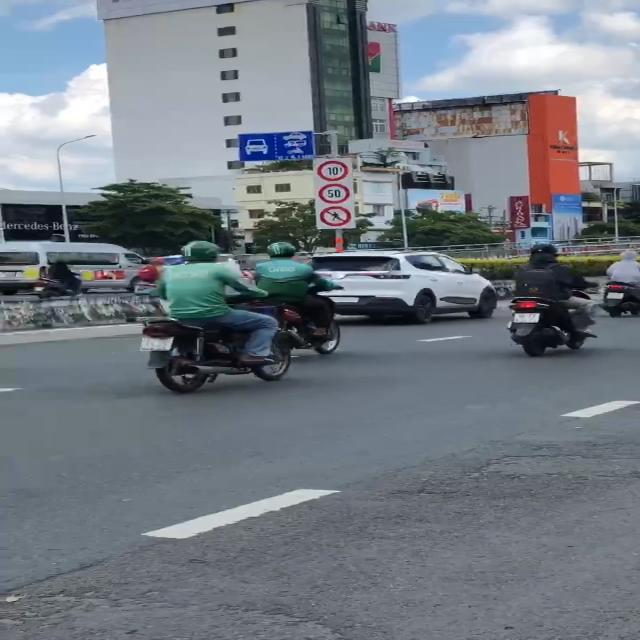Bien bao cam nguoi di bo: (317, 205, 358, 228)
Bien bao toc do toi da cho phep: (317, 182, 353, 205)
